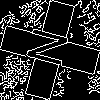N: (25, 25, 79, 72)
